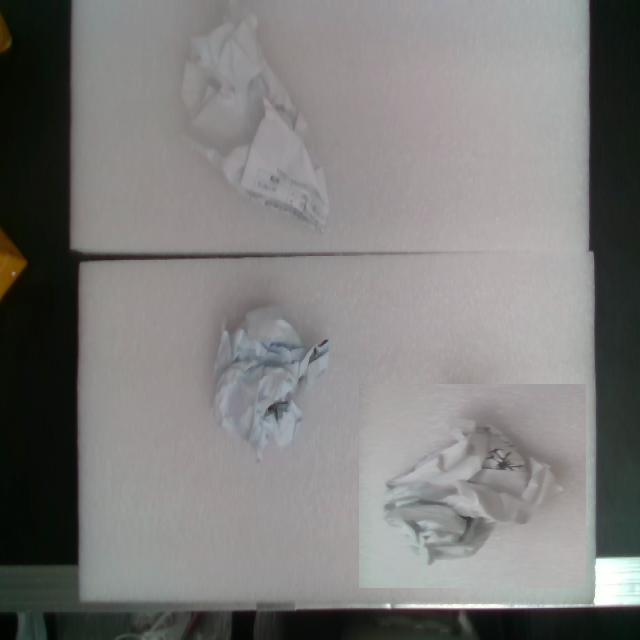paper: (116, 3, 384, 275), (129, 243, 372, 501), (356, 370, 587, 591)
